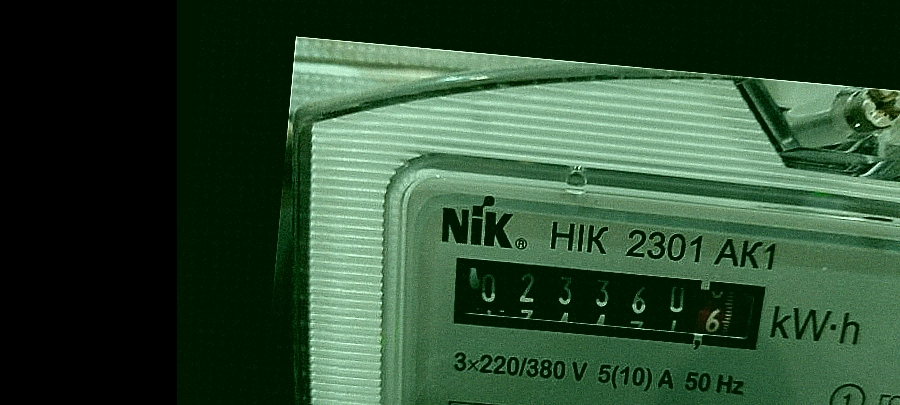0: (476, 269, 500, 304), (667, 282, 687, 314)
2: (514, 269, 540, 305)
3: (552, 273, 576, 306), (591, 275, 613, 308)
6: (627, 281, 650, 315), (700, 303, 724, 334)
screen: (431, 238, 780, 366)
